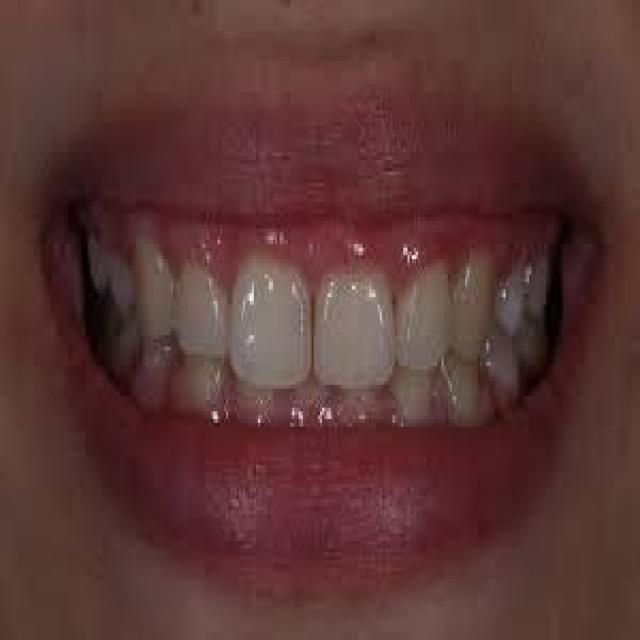tooth: (316, 259, 394, 389), (236, 263, 314, 388), (506, 274, 568, 385), (86, 240, 136, 370), (175, 263, 232, 362), (395, 278, 454, 370), (318, 370, 399, 434), (456, 263, 502, 366), (132, 236, 173, 339), (226, 370, 282, 438), (132, 347, 175, 419), (446, 366, 486, 426), (175, 366, 220, 419), (397, 373, 444, 423), (288, 377, 318, 438), (486, 342, 512, 408)
